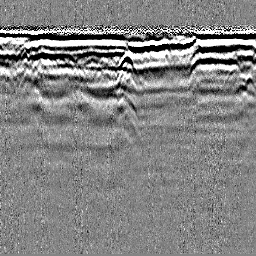cavity: (117, 49, 138, 73)
